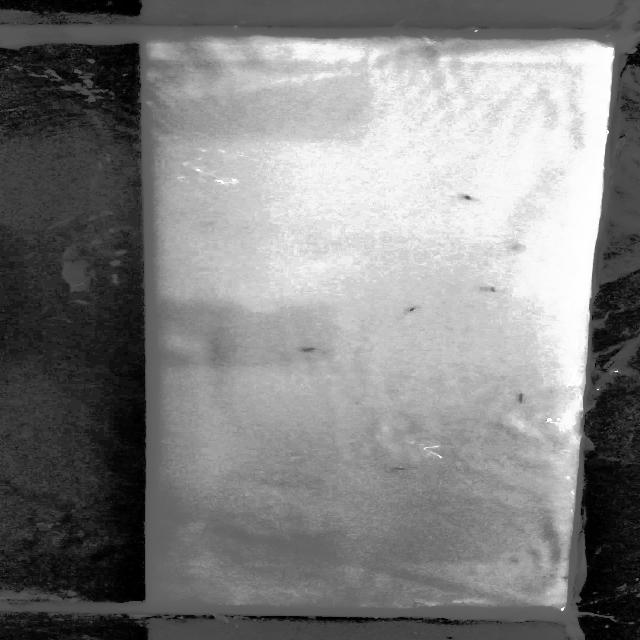shrimp: (292, 338, 320, 359), (377, 462, 423, 474), (452, 188, 478, 204), (397, 302, 422, 316)
